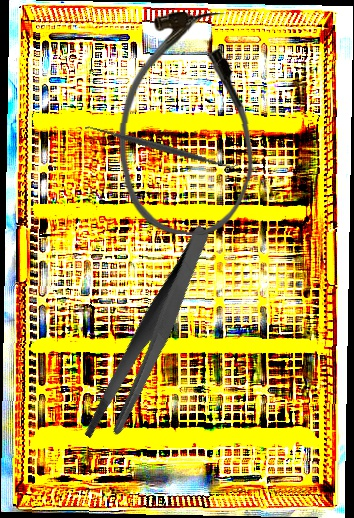Cannula: (116, 11, 258, 236)
Dressing Forceps: (42, 223, 260, 452)
Spatula Surgical: (83, 116, 240, 178)
